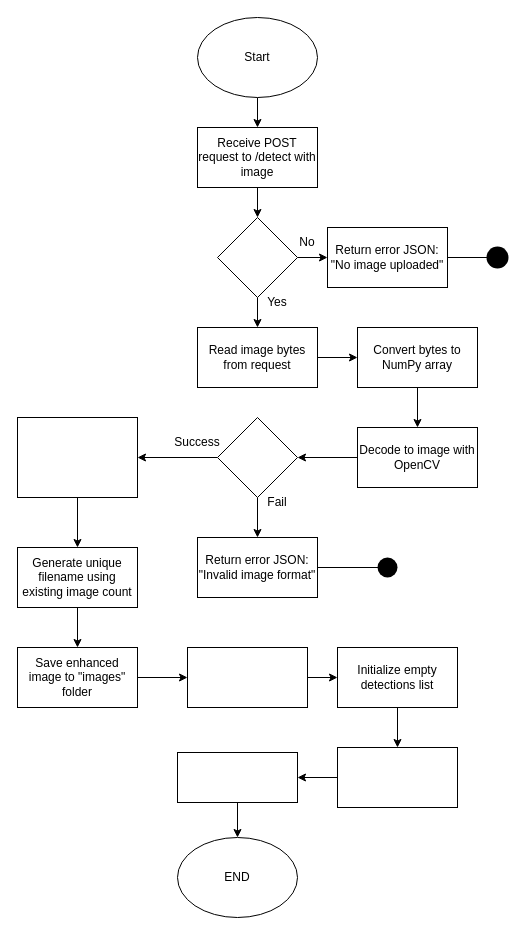
The diagram is 529 pixels wide and 935 high, and some of its shapes have lost their labels. The centre of each missing label's shape, as x and y in pixels:
"Apply CLAHE enhancement to improve image contrast" belongs at [77,457].
"Decode Image" belongs at [257,457].
"Extract class_id, confidence, and bounding box" belongs at [397,777].
"Image Exist" belongs at [257,257].
"Return JSON response" belongs at [237,777].
"Run YOLO model prediction on the enhanced image" belongs at [247,677].
